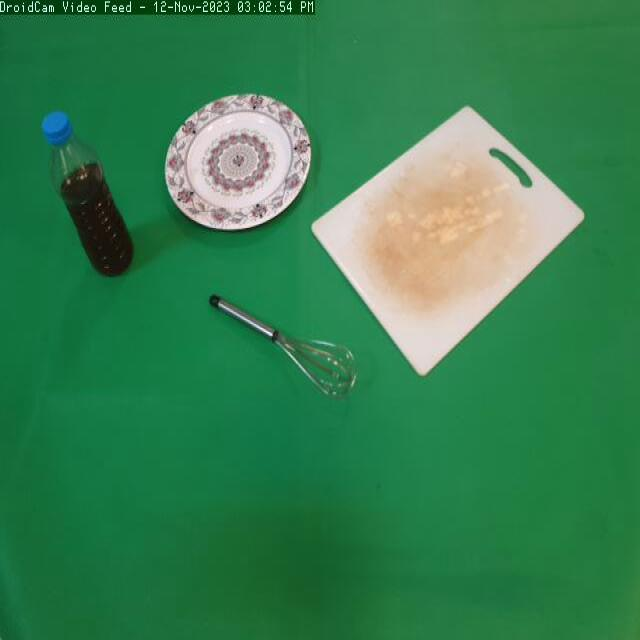cutting board: (309, 96, 595, 380)
fullbottle: (36, 101, 142, 288)
plate: (157, 82, 315, 234)
whisk: (203, 285, 366, 410)
